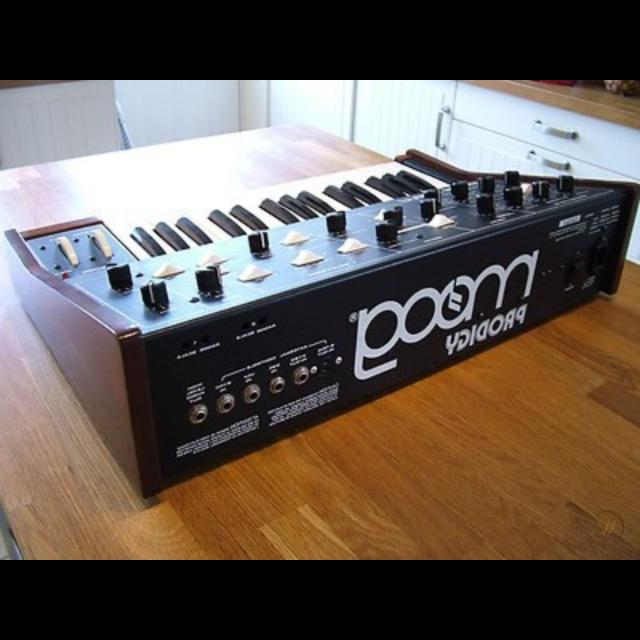Electronic-Keyboard: (9, 141, 626, 509)
